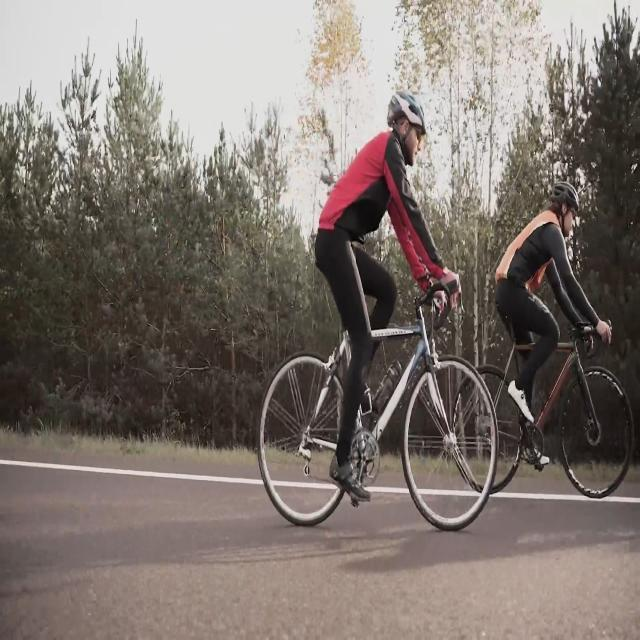Helmet: (375, 80, 434, 171), (542, 173, 586, 243)
bike: (255, 273, 500, 533), (448, 313, 635, 502)
rider: (310, 83, 464, 503), (492, 175, 615, 418)
